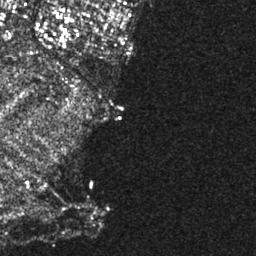ship: (116, 104, 125, 111), (89, 180, 93, 189)
